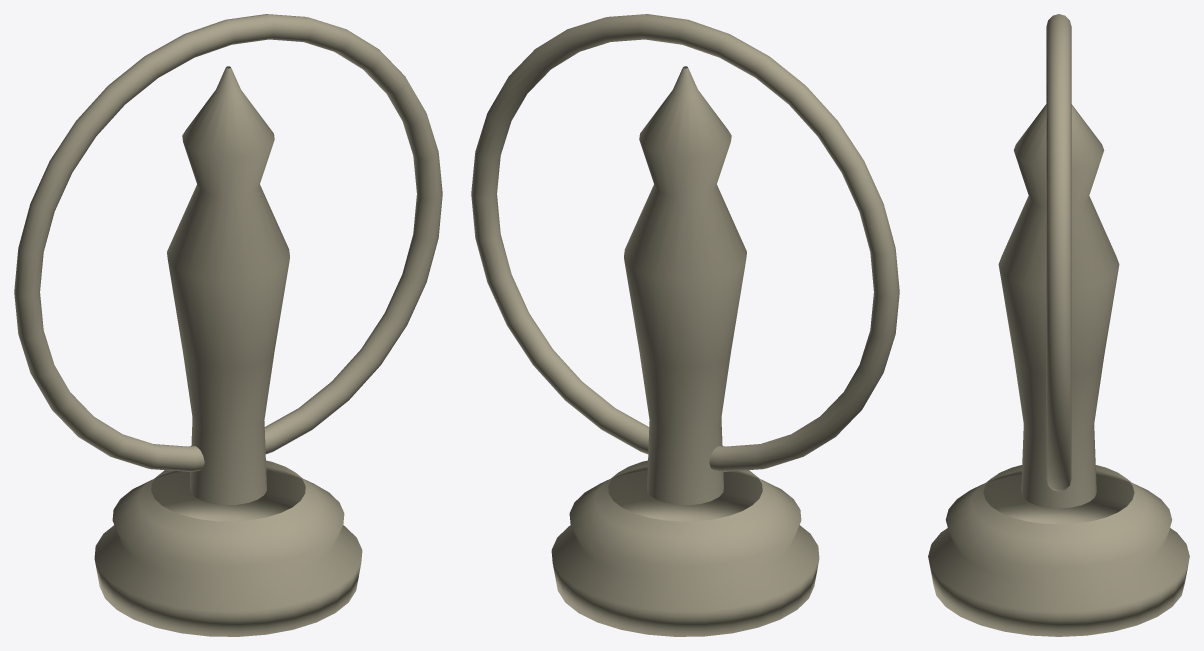
File: nataraja.glb
The picture shows the model from 3 angles, left to right: view 1: azimuth 30°, elevation 25°; view 2: azimuth 150°, elevation 25°; view 3: azimuth 270°, elevation 25°; orthographic projection. The views are drawn at different scales.
Visible parts, largest first — view 1: CholaBronze_Nataraja; view 2: CholaBronze_Nataraja; view 3: CholaBronze_Nataraja.
Part boxes in pixels (x1,y1,x2,y2): CholaBronze_Nataraja: [14, 14, 442, 636]; CholaBronze_Nataraja: [471, 14, 899, 636]; CholaBronze_Nataraja: [928, 14, 1189, 636].
Bounding box in the file's own units: 0.19 × 0.24 × 0.104.
